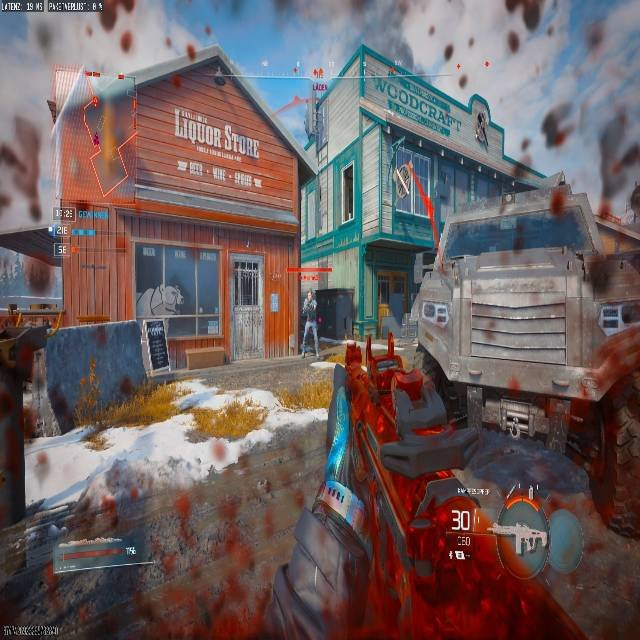head: (166, 276, 181, 289)
player: (138, 276, 185, 368), (298, 292, 321, 356)
